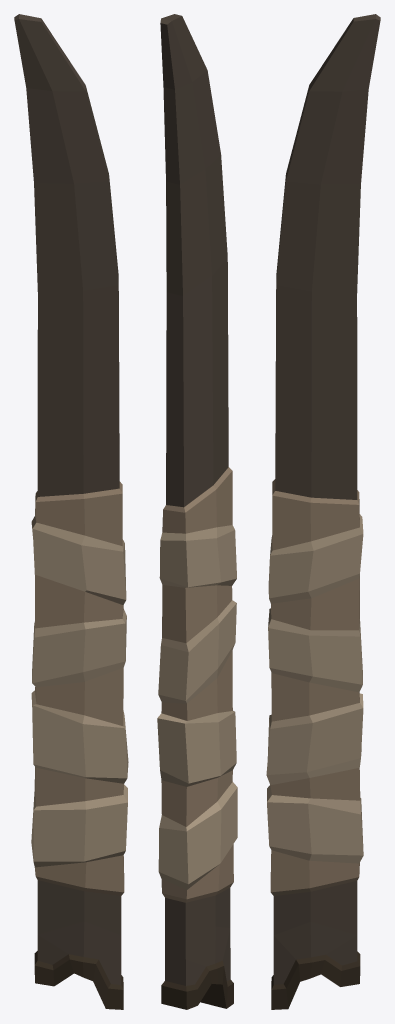
File: SM_Wep_Sword_01_Sheath.fbx
The picture shows the model from 3 angles, left to right: view 1: azimuth 90°, elevation 25°; view 2: azimuth 150°, elevation 25°; view 3: azimuth 270°, elevation 25°; orthographic projection. The views are drawn at different scales.
Parts seen in each view (by area): view 1: SM_Wep_Sword_01_Sheath; view 2: SM_Wep_Sword_01_Sheath; view 3: SM_Wep_Sword_01_Sheath.
Part boxes in pixels (x1,y1,x2,y2): SM_Wep_Sword_01_Sheath: (14, 14, 128, 1009); SM_Wep_Sword_01_Sheath: (157, 14, 237, 1009); SM_Wep_Sword_01_Sheath: (266, 14, 380, 1009).
Bounding box in the file's own units: 5.42 × 129 × 13.48.
